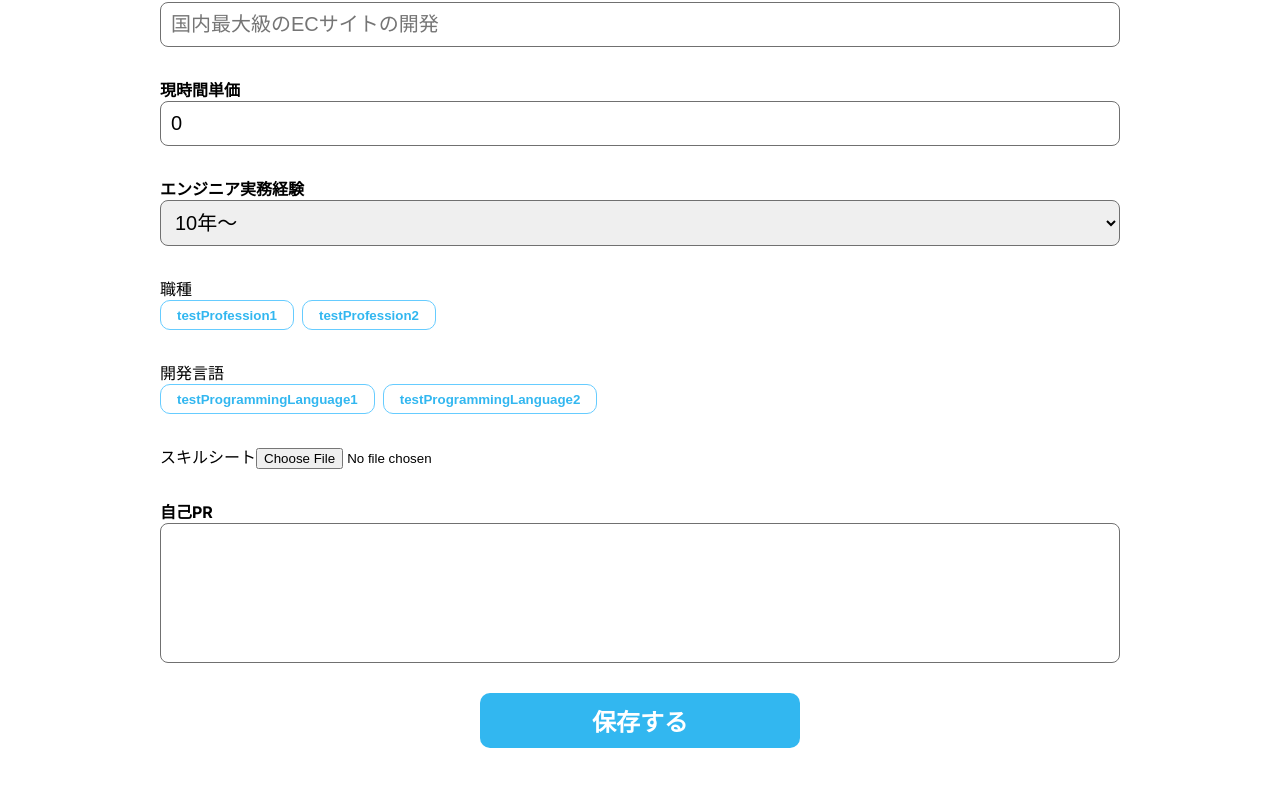
it: frontend/app/mypage/profiles/_components/organisms/ProfileEdit › フォームの送信 › バリデーションありの場合 › エラーメッセージが表示されること
(page scrolled)
Click the button "保存する": (640, 720) [480,693,800,748]
(page scrolled)
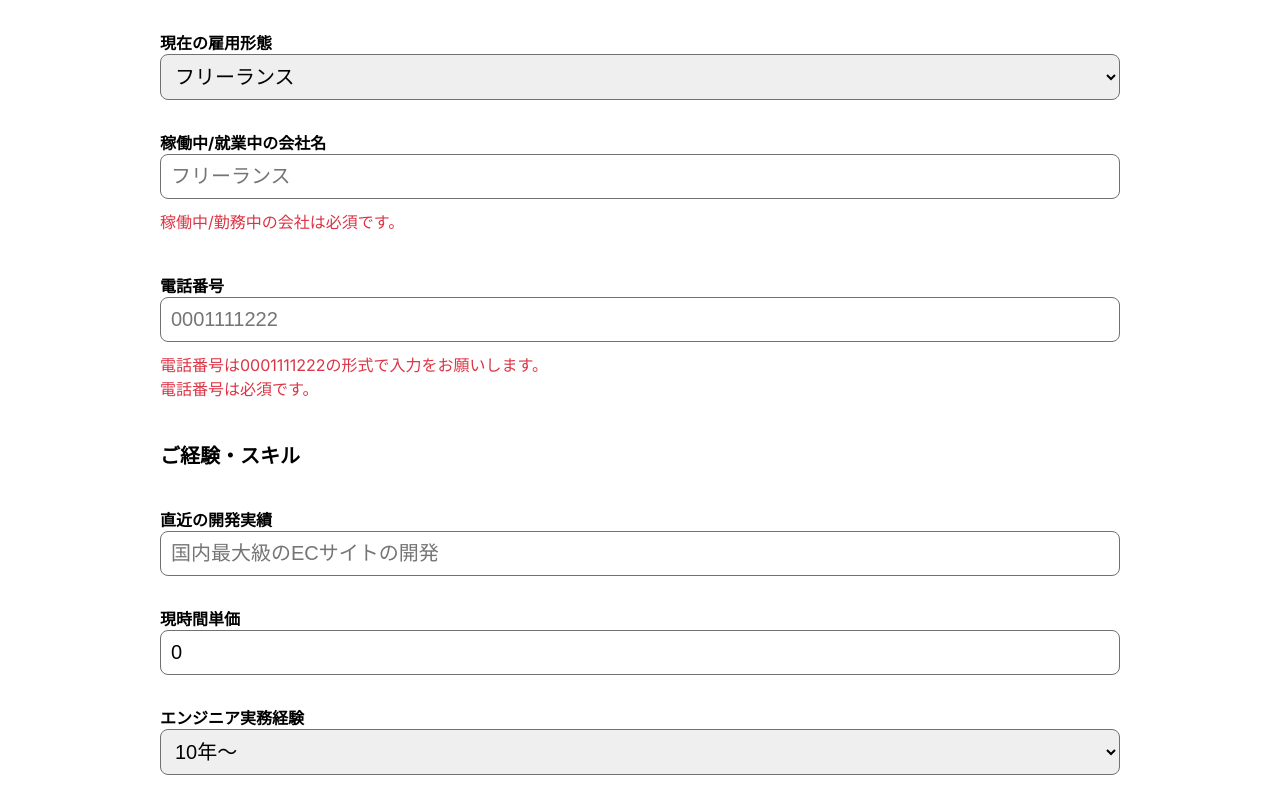
Check: the text "稼働中/勤務中の会社は必須です。" is shown, box [160,212,404,232]
Check: the text "電話番号は0001111222の形式で入力をお願いします。" is shown, box [160,355,548,375]
Check: the text "電話番号は必須です。" is shown, box [160,379,318,399]
